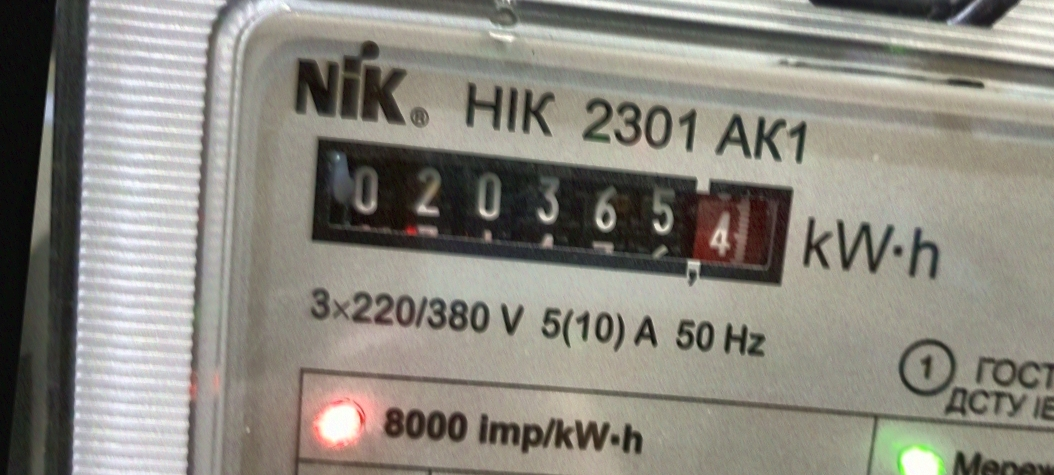0: (347, 160, 386, 219), (473, 170, 508, 223)
2: (412, 164, 447, 218)
3: (532, 175, 566, 226)
4: (706, 207, 735, 258)
5: (649, 187, 680, 236)
6: (591, 181, 622, 234)
screen: (292, 119, 812, 308)
